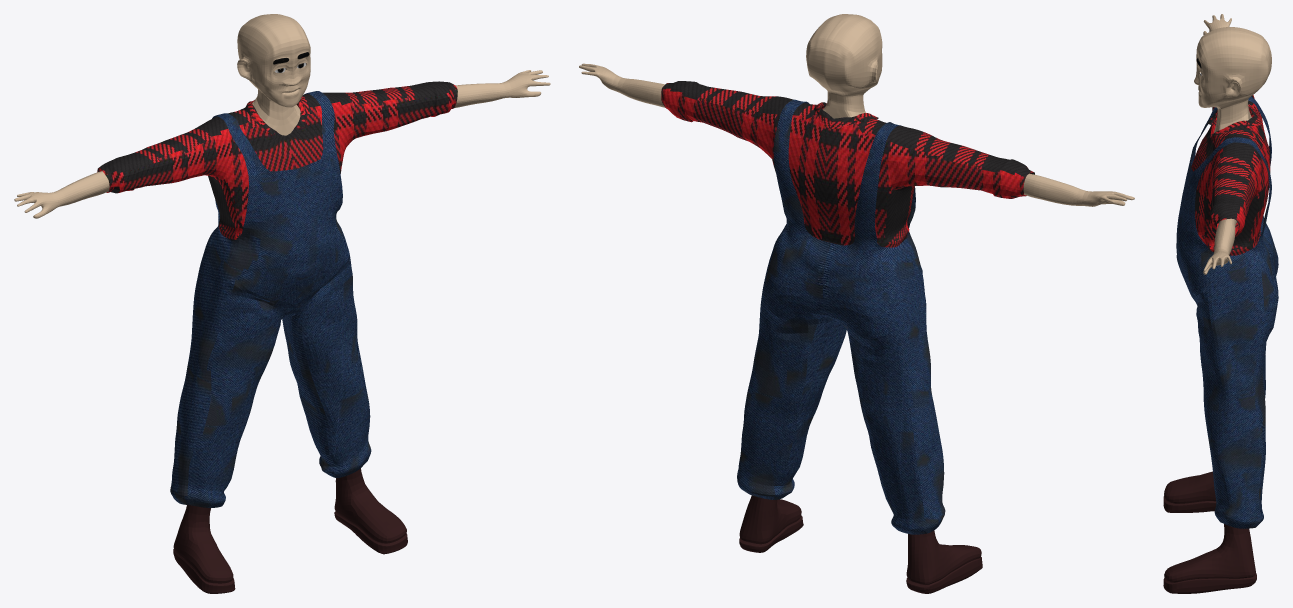
3 views of the same model, side by side, from view 1: azimuth 30°, elevation 25°; view 2: azimuth 150°, elevation 25°; view 3: azimuth 270°, elevation 25° (orthographic). The views are drawn at different scales.
Visible parts, largest first — view 1: Body 01; view 2: Body 01; view 3: Body 01.
Boxes of the visible parts, x1=… form: Body 01: x1=14, y1=14, x2=550, y2=593; Body 01: x1=579, y1=14, x2=1134, y2=593; Body 01: x1=1163, y1=14, x2=1278, y2=593.
Size of the model in its own units: 233 by 222 by 44.82.
6 materials, 4 textured.
